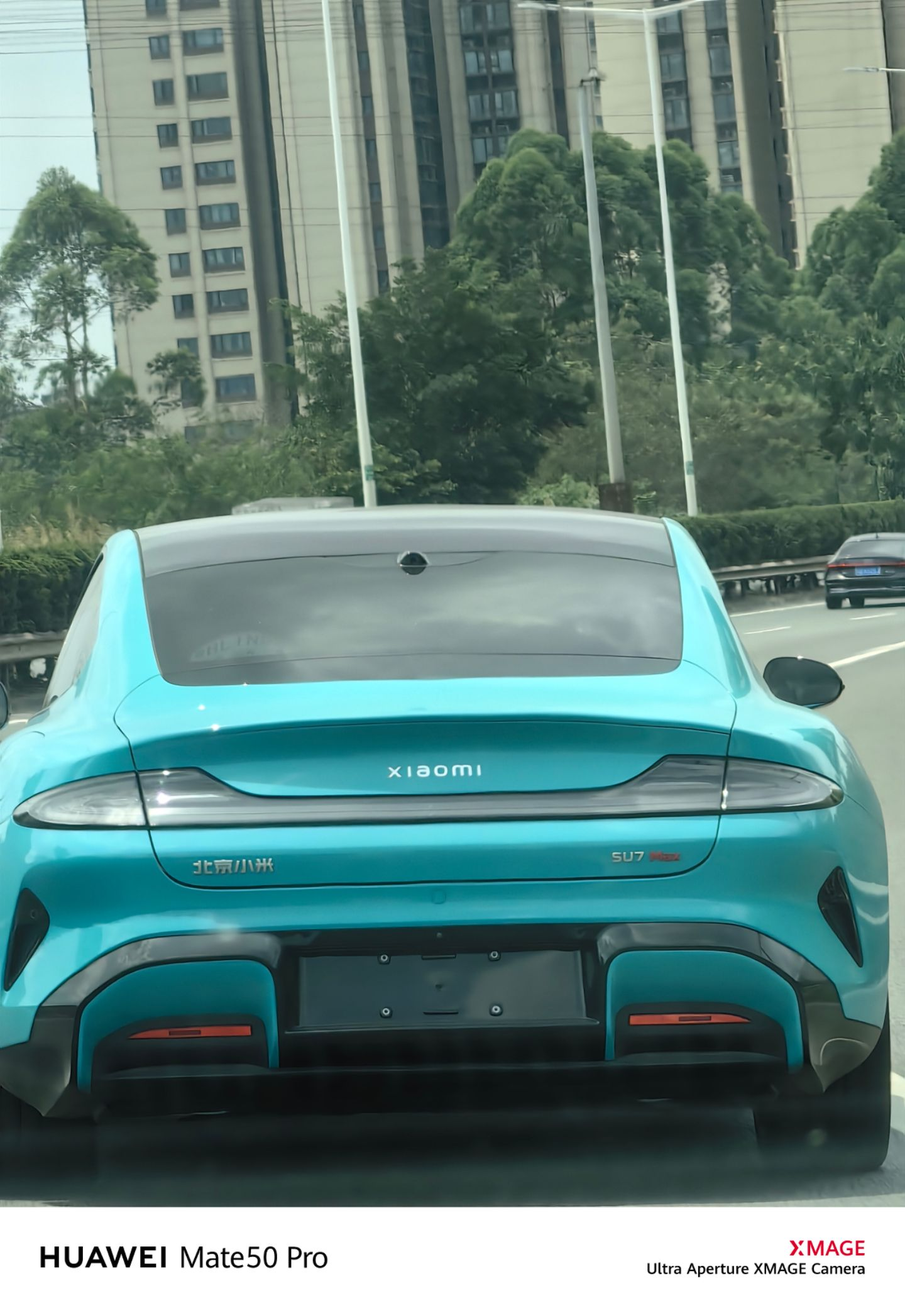su7: (4, 485, 902, 1194)
